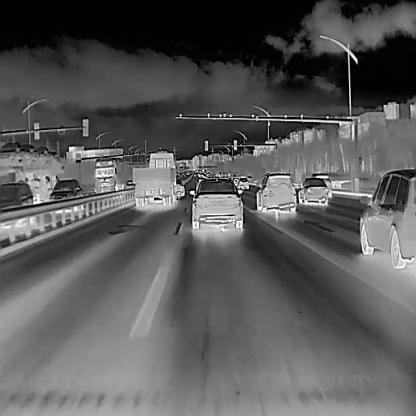car: (357, 167, 415, 269), (189, 176, 243, 230), (255, 171, 296, 213), (0, 181, 33, 220), (48, 177, 83, 209), (297, 176, 328, 206), (310, 172, 333, 198), (174, 180, 184, 198), (124, 177, 137, 190), (235, 176, 248, 188)
truck: (131, 150, 177, 206), (92, 154, 133, 192)
